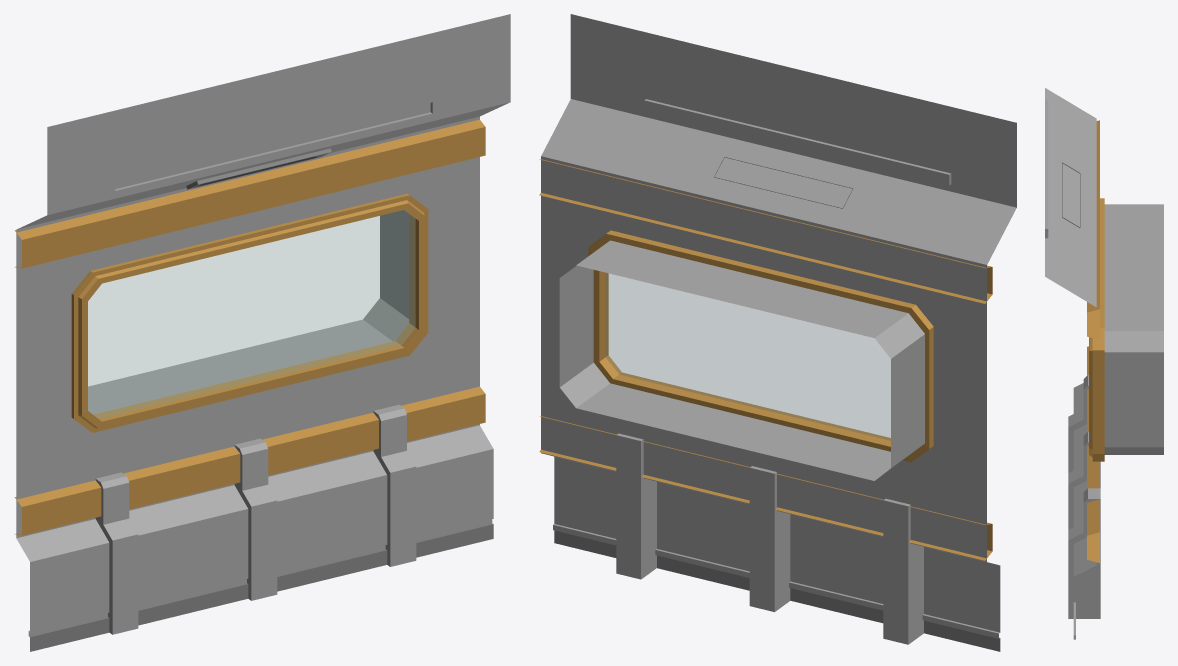
Rendered from Window_Wall_SideA.gltf.
3 renders of one model, left to right at view 1: azimuth 30°, elevation 25°; view 2: azimuth 150°, elevation 25°; view 3: azimuth 270°, elevation 25°, orthographic. The views are drawn at different scales.
Visible parts, largest first — view 1: Window_Wall_SideA; view 2: Window_Wall_SideA; view 3: Window_Wall_SideA.
Part boxes in pixels (x1,y1,x2,y2): Window_Wall_SideA: (14,14,510,651); Window_Wall_SideA: (539,14,1016,651); Window_Wall_SideA: (1045,88,1163,639).
Size of the model in its own units: 4 by 4.43 by 1.06.
